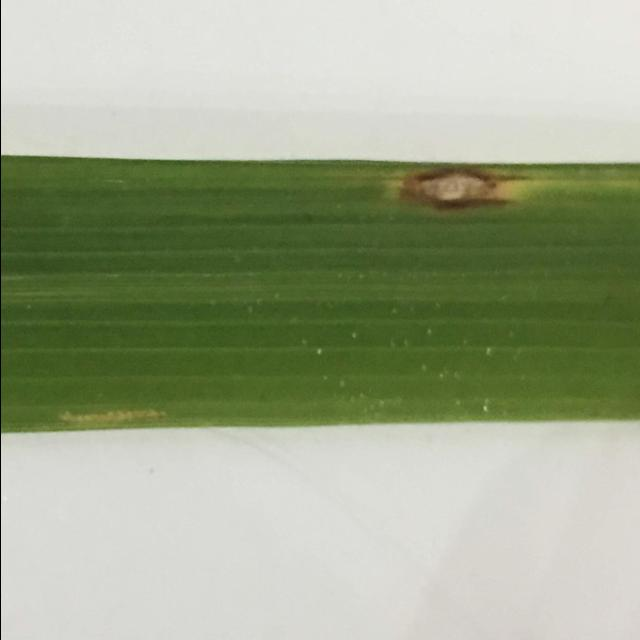Leaf blast: (0, 160, 640, 422)
